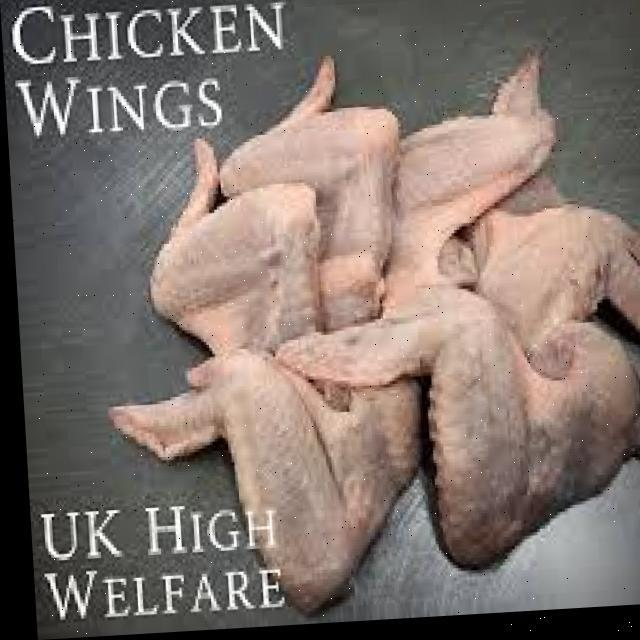wing: (314, 296, 640, 578), (120, 344, 398, 578), (347, 51, 554, 299), (129, 136, 329, 365), (240, 86, 398, 318), (469, 188, 640, 374)
